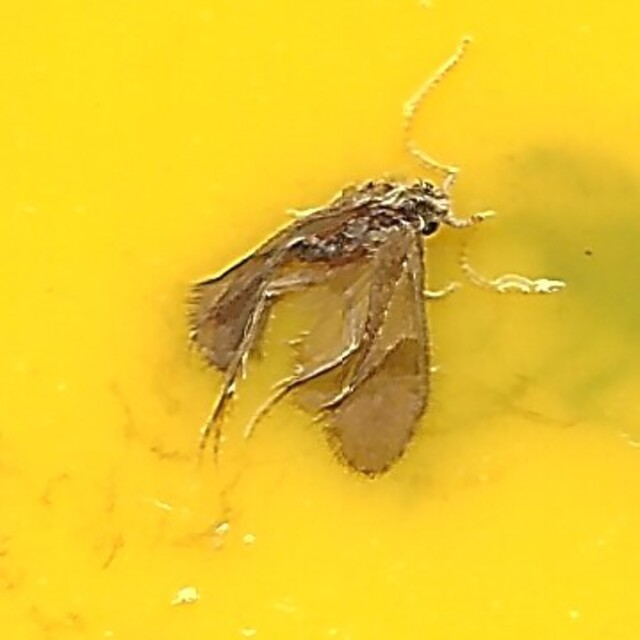Trichoptera: (178, 167, 462, 473)
